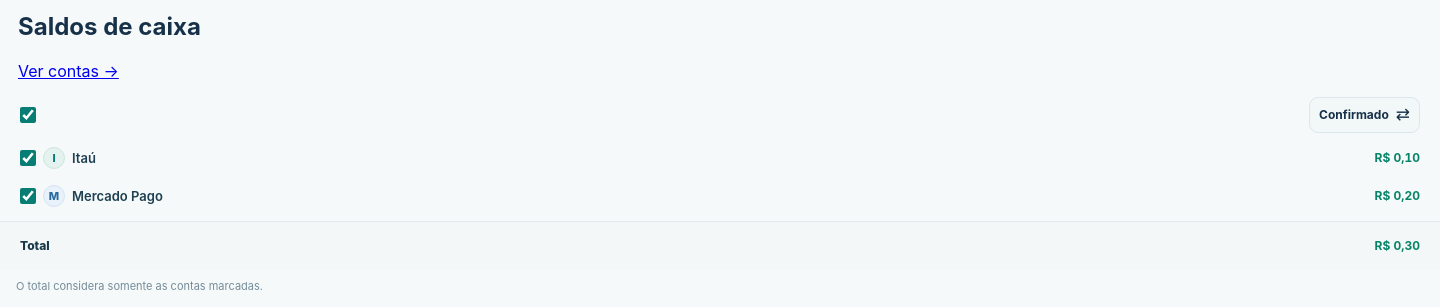
Test case: Card de saldos de caixa › preserva exatamente centavos e sinais ao somar saldos mistos
The width and height of the screenshot is (1440, 307).
Click the button with class "cash-balances-switch" at {"x": 1365, "y": 115}, box [1309, 97, 1420, 133]
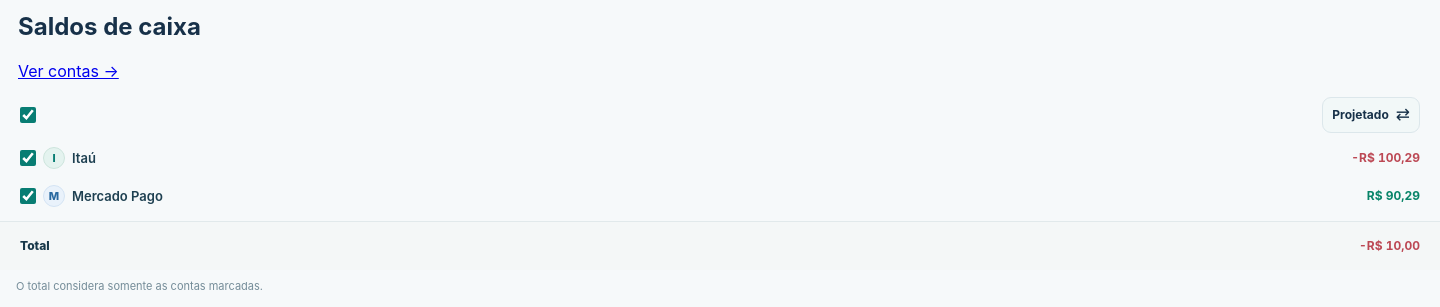
Check: the footer with class "cash-balances-total" shows "10,00", box [1359, 238, 1420, 253]
